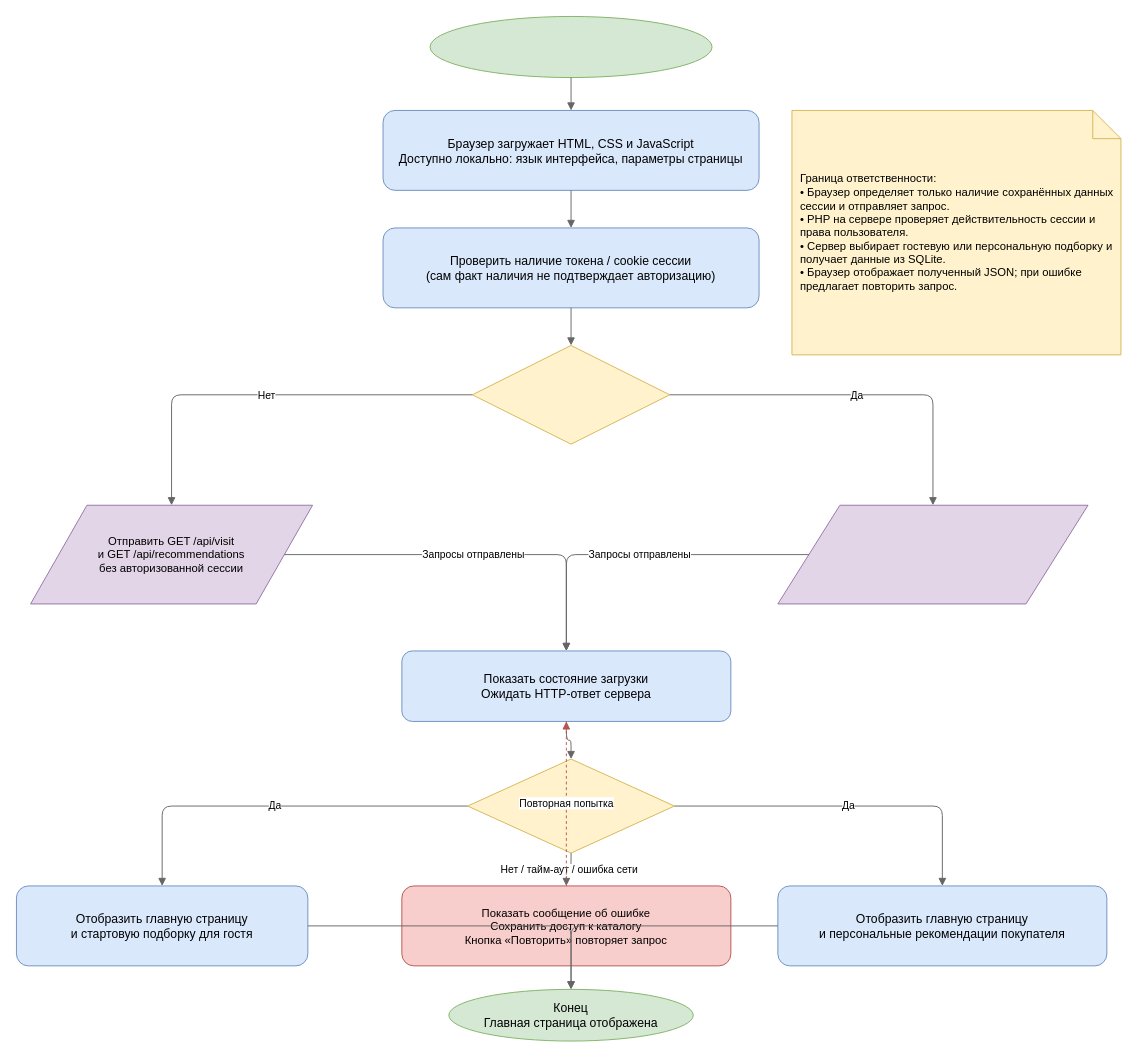
Some shapes in this 1137 by 1058 pixel diagram are drawn without their labels. Each missing label, with the centre of its shape:
Есть данные сессии?: point (570, 394)
Начало Пользователь открывает GamesJustLike: point (570, 47)
Ответ успешный (2xx)?: point (570, 805)
Отправить GET /api/visit и GET /api/recommendations с cookie / токеном сессии: point (932, 554)
